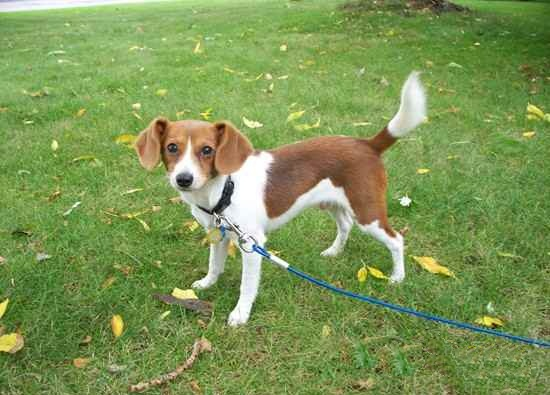dog: (131, 69, 442, 334)
